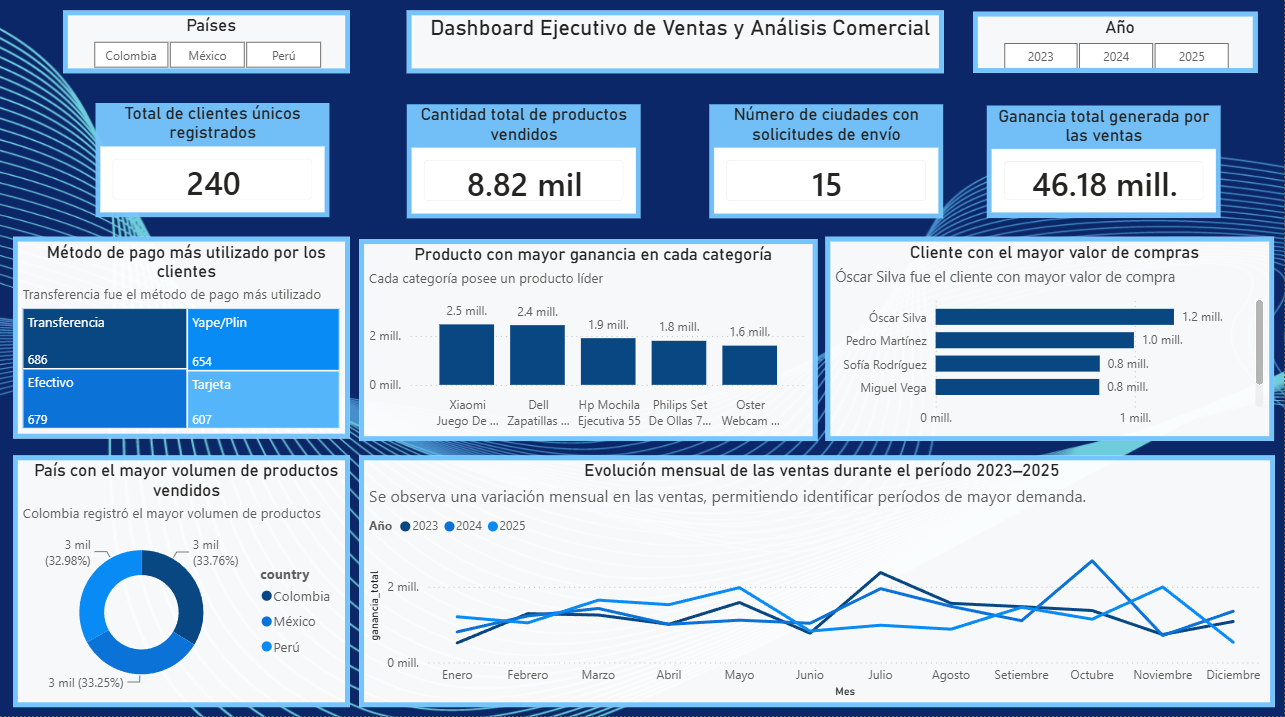

Layout of this report page (visuals, bound fields, positions):
{"tool":"powerbi","page":{"name":"ejecutivo de ventas y analisis comercial","canvas":[1280,720],"ordinal":0},"visuals":[{"type":"cardVisual","title":"Total de clientes únicos registrados","fields":{"Data":["clientes.total_clientes"]},"box":[97.2,109.7,233.1,113.4],"z":0},{"type":"cardVisual","title":"Cantidad total de productos vendidos","fields":{"Data":["fact_ventas.cantidad_productos"]},"box":[406.4,110.9,233.1,113.4],"z":1000},{"type":"cardVisual","title":"Número de ciudades con solicitudes de envío","fields":{"Data":["clientes.ciudades"]},"box":[708.1,110.9,233.1,113.4],"z":2000},{"type":"cardVisual","title":"Venta total generada por las ventas","fields":{"Data":["fact_ventas.ganancia_total"]},"box":[983.6,112.2,233.1,112.2],"z":3000},{"type":"columnChart","title":"Producto con mayor ganancia en cada categoría","fields":{"Category":["productos.product_name"],"Y":["fact_ventas.ganancia_total"]},"box":[359,245.6,456.3,200.7],"z":4000},{"type":"lineChart","title":"Evolución mensual de las ventas durante el período 2023–2025","fields":{"Category":["fact_ventas.fecha_venta.Variación.Jerarquía de fechas.Mes"],"Y":["fact_ventas.ganancia_total"],"Series":["fact_ventas.fecha_venta.Variación.Jerarquía de fechas.Año"]},"box":[359,460,911.3,250.6],"z":5000},{"type":"donutChart","title":"País con el mayor volumen de productos vendidos","fields":{"Category":["fact_ventas.country"],"Y":["fact_ventas.cantidad_productos"]},"box":[15,460,335.3,250.6],"z":6000},{"type":"treemap","title":"Método de pago más utilizado por los clientes","fields":{"Group":["fact_ventas.payment_method"],"Values":["CountNonNull(fact_ventas.customer_id)"]},"box":[15,243.1,335.3,200.7],"z":7000},{"type":"clusteredBarChart","title":"Cliente con el mayor valor de compras ","fields":{"Category":["clientes.customer_name"],"Y":["fact_ventas.ganancia_total"]},"box":[824,243.1,446.3,203.2],"z":8000},{"type":"textbox","title":"Dashboard Ejecutivo de Ventas y Análisis Comercial","box":[406.4,17.5,534.8,62.3],"z":9000},{"type":"slicer","title":"Países","fields":{"Values":["clientes.country"]},"box":[64.8,17.5,285.5,62.3],"z":10000},{"type":"slicer","title":"Año","fields":{"Values":["fact_ventas.fecha_venta.Variación.Jerarquía de fechas.Año"]},"box":[969.9,18.7,283,61.1],"z":11000}]}

Visuals, with their boxes in screenshot pixels (x1, y1, x2, y2), scaled from the page's 1280x720 canvas onto the 1285x717 screenshot:
"Total de clientes únicos registrados" cardVisual: box=[98, 109, 332, 222]
"Cantidad total de productos vendidos" cardVisual: box=[408, 110, 642, 223]
"Número de ciudades con solicitudes de envío" cardVisual: box=[711, 110, 945, 223]
"Venta total generada por las ventas" cardVisual: box=[987, 112, 1221, 223]
"Producto con mayor ganancia en cada categoría" columnChart: box=[360, 245, 818, 444]
"Evolución mensual de las ventas durante el período 2023–2025" lineChart: box=[360, 458, 1275, 708]
"País con el mayor volumen de productos vendidos" donutChart: box=[15, 458, 352, 708]
"Método de pago más utilizado por los clientes" treemap: box=[15, 242, 352, 442]
"Cliente con el mayor valor de compras " clusteredBarChart: box=[827, 242, 1275, 444]
"Dashboard Ejecutivo de Ventas y Análisis Comercial" textbox: box=[408, 17, 945, 79]
"Países" slicer: box=[65, 17, 352, 79]
"Año" slicer: box=[974, 19, 1258, 79]
